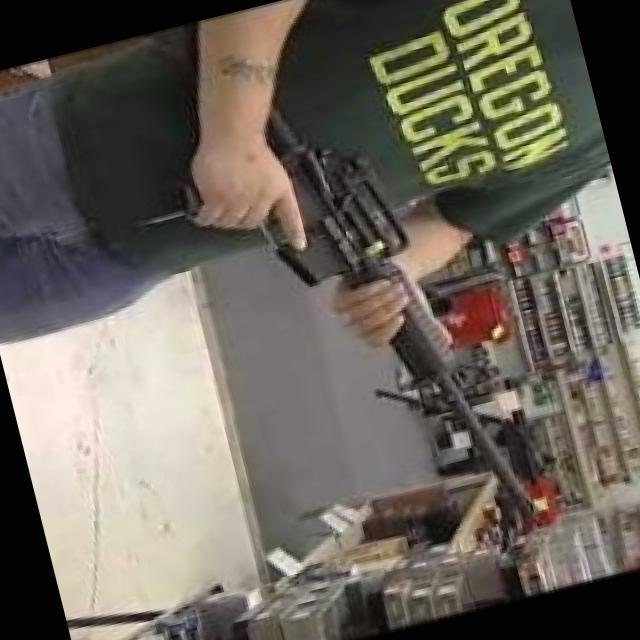long weapon: (188, 50, 550, 568)
